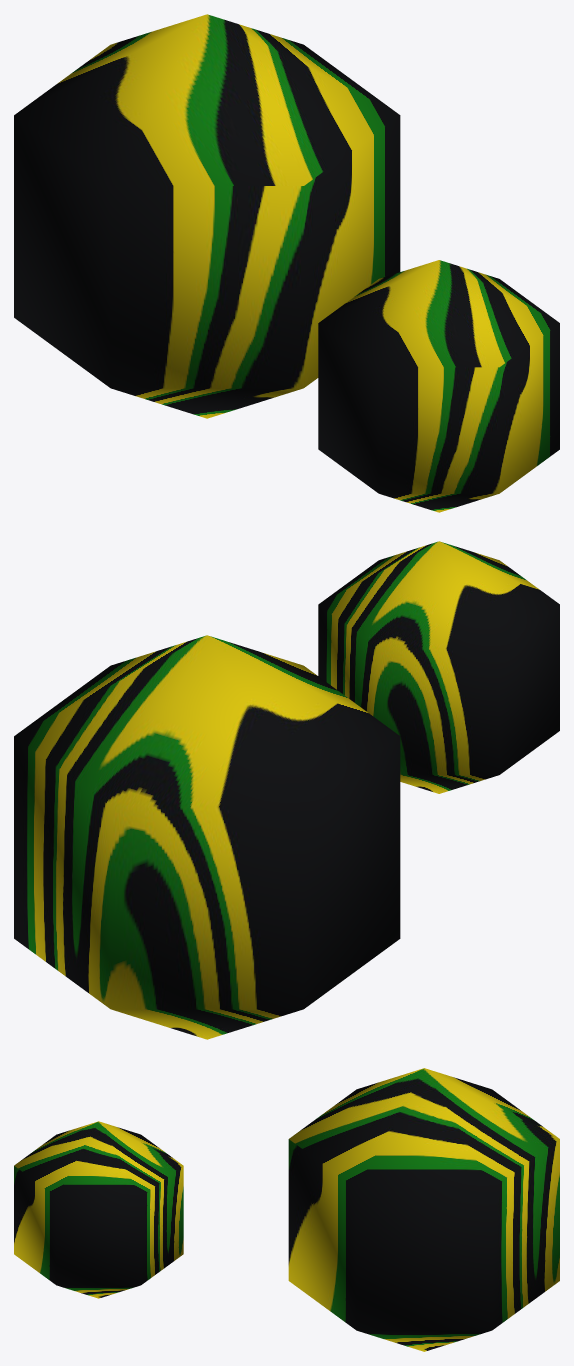
Rendered from iguanamarble_selection.DAE.
3 renders of one model, top to bottom at view 1: azimuth 30°, elevation 25°; view 2: azimuth 150°, elevation 25°; view 3: azimuth 270°, elevation 25°, orthographic. The views are drawn at different scales.
Visible parts, largest first — view 1: Shooter_G, Standard_G; view 2: Shooter_G, Standard_G; view 3: Shooter_G, Standard_G.
Part boxes in pixels (box(x1,y1,x2,y2)): Shooter_G: box(14, 14, 400, 418); Standard_G: box(318, 260, 559, 512); Shooter_G: box(14, 635, 400, 1039); Standard_G: box(318, 541, 559, 793); Shooter_G: box(288, 1068, 559, 1351); Standard_G: box(14, 1121, 183, 1298).
Bounding box in the file's own units: 0.0381 × 0.0886 × 0.0508.
Materials: 1 (1 with a texture image).
